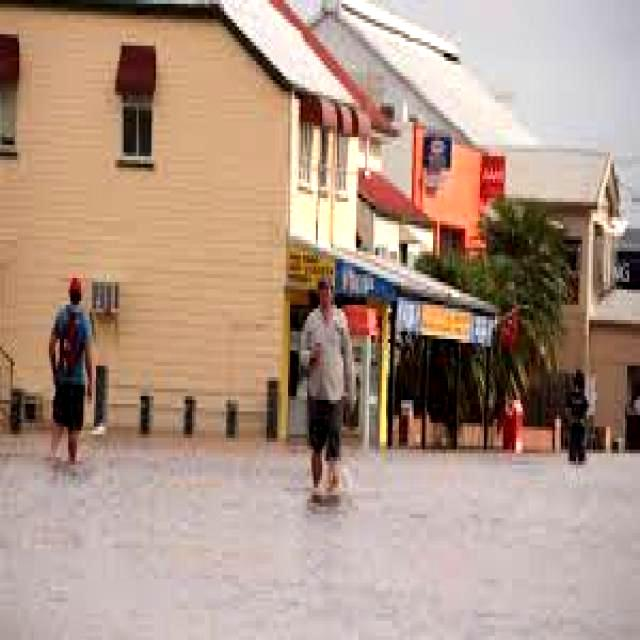civilian: (290, 271, 362, 516), (43, 264, 100, 486)
